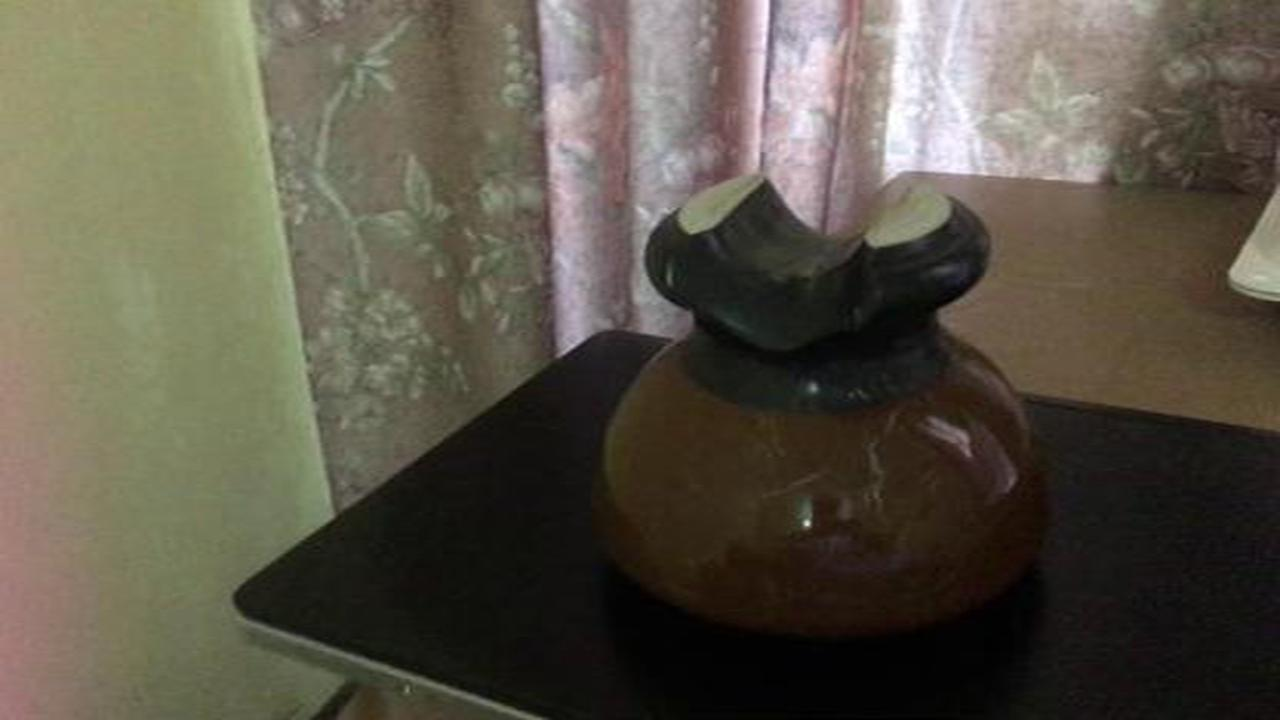insulator_pin: (582, 155, 1068, 651)
